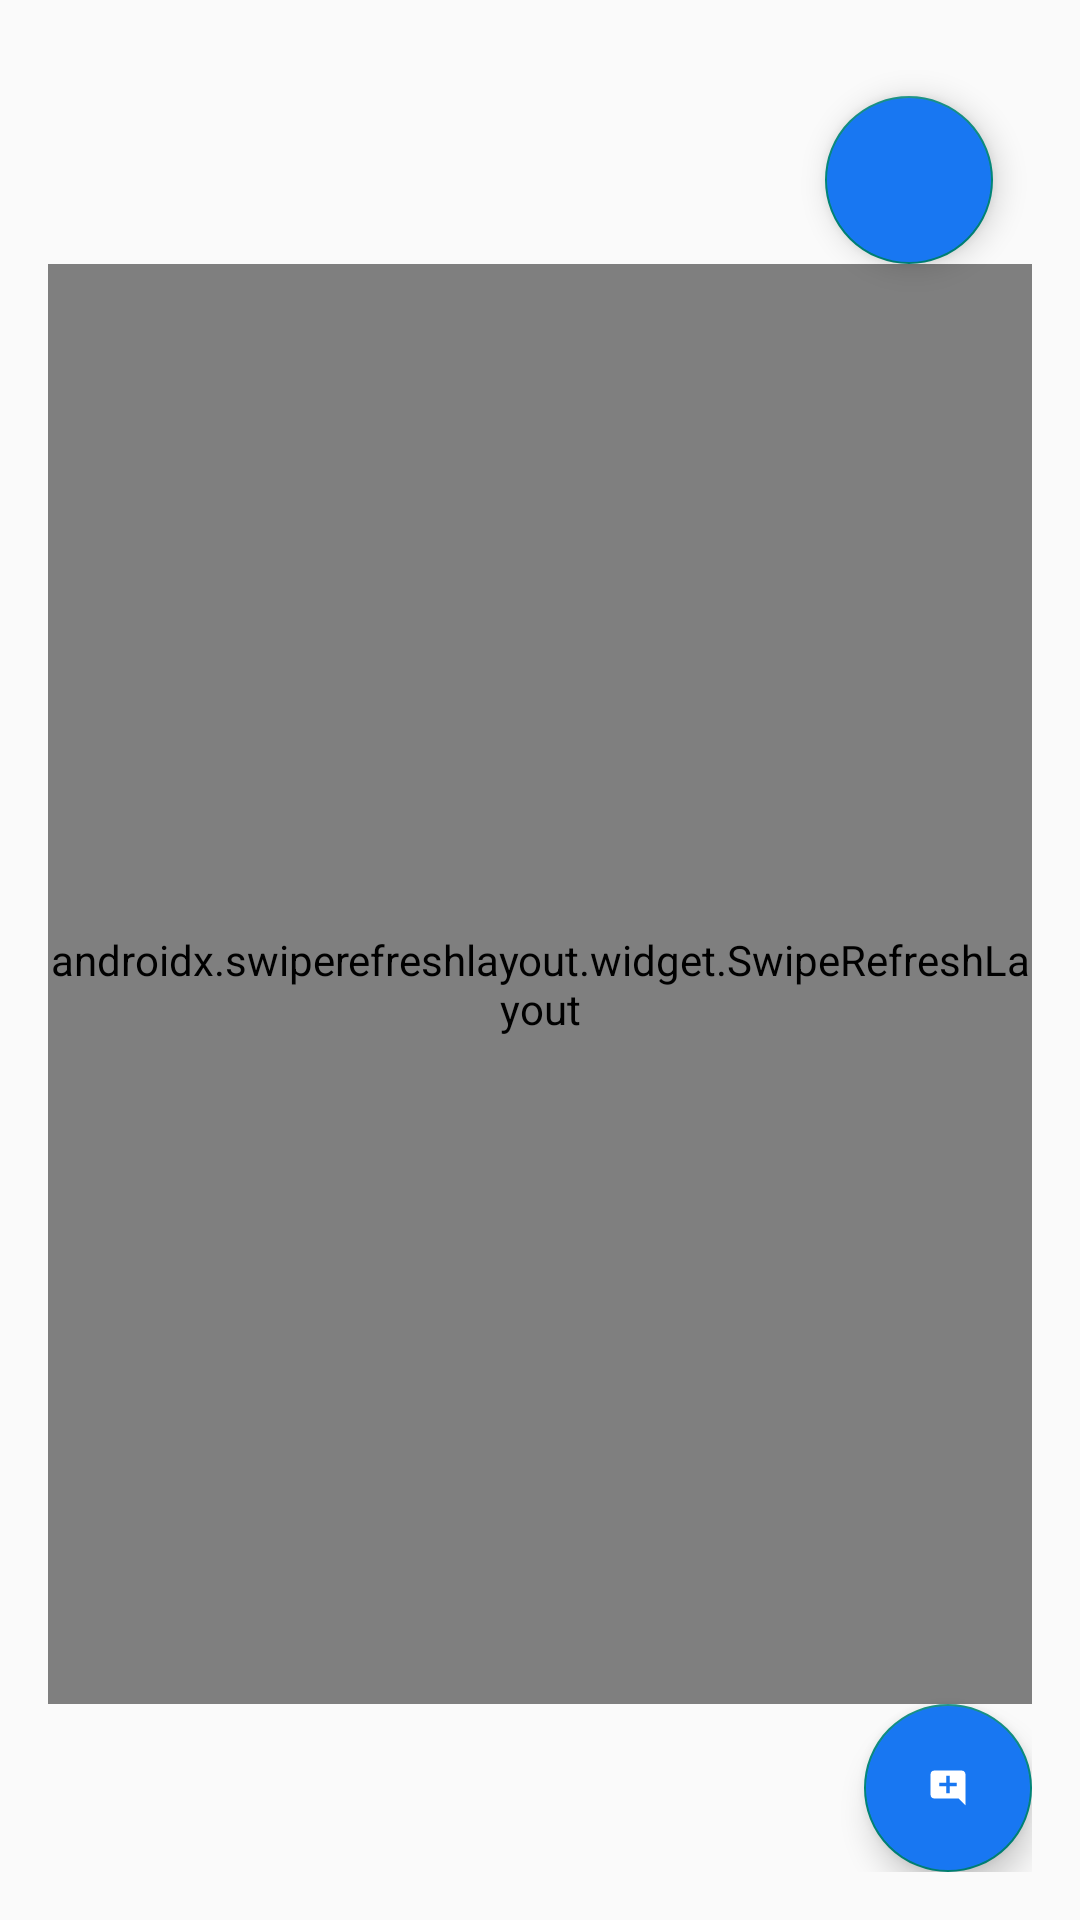

Point at icon controls on the screen. Image size 1080 x 1920, points as (x=x, y=y).
addcomment: (x=948, y=1788)
